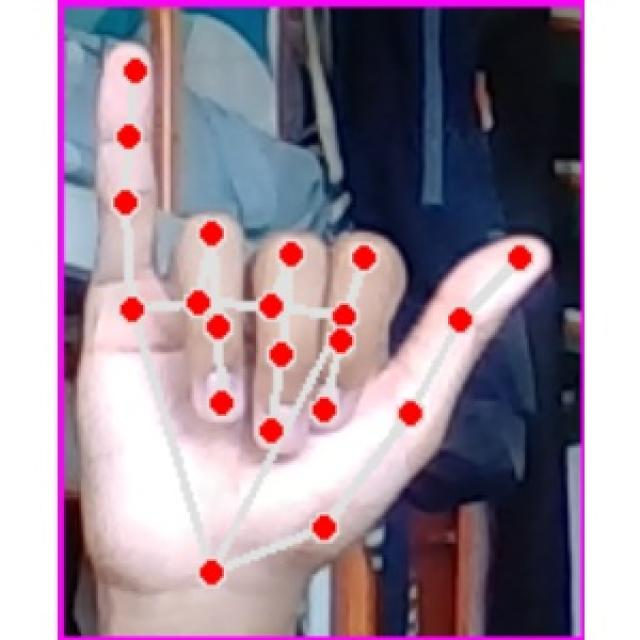Y: (89, 37, 556, 604)
